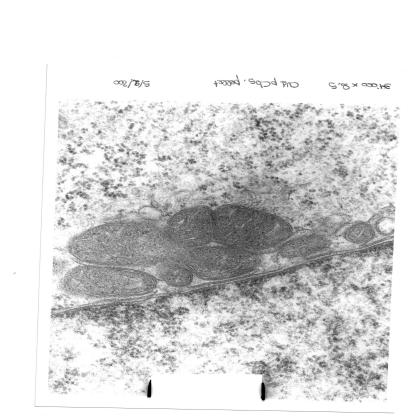mitochondria: (65, 222, 180, 266), (209, 202, 293, 255), (60, 266, 157, 300), (181, 247, 263, 281), (161, 204, 217, 248), (277, 236, 332, 258), (314, 215, 354, 238), (345, 222, 376, 246), (162, 266, 192, 288)
